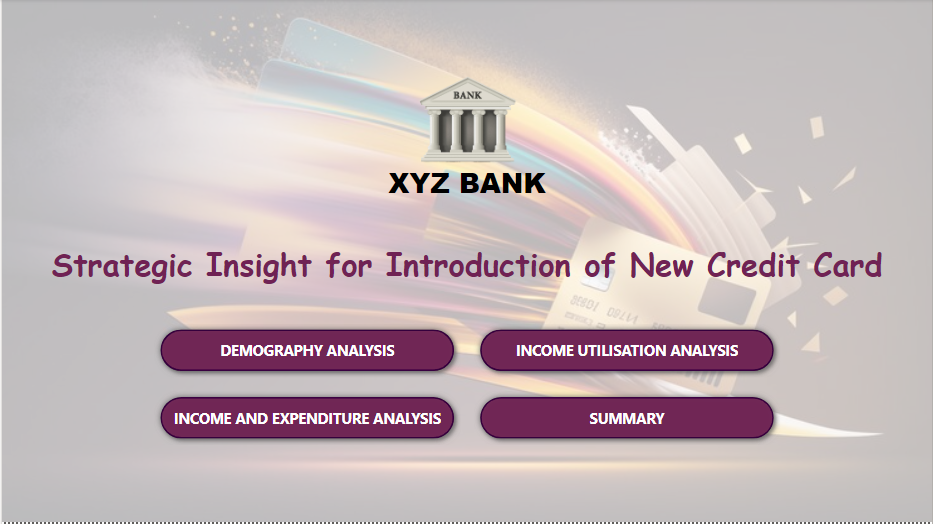

The page's visual inventory and layout, read from the dashboard file:
{"tool":"powerbi","page":{"name":"HOME","canvas":[1280,720],"ordinal":0},"visuals":[{"type":"image","box":[544.3,92.2,191.5,149.8],"z":2000},{"type":"textbox","box":[0,221.8,1280.2,70.6],"z":3000},{"type":"textbox","box":[0,328.3,1280.2,82.1],"z":4000},{"type":"pageNavigator","box":[208.8,446.4,862.6,169.9],"z":6000}]}

Visuals, with their boxes in screenshot pixels (x1, y1, x2, y2), scaled from the page's 1280x720 canvas onto the 933x524 screenshot:
image: 397, 67, 536, 176
textbox: 0, 161, 932, 213
textbox: 0, 239, 932, 299
pageNavigator: 152, 325, 781, 449
